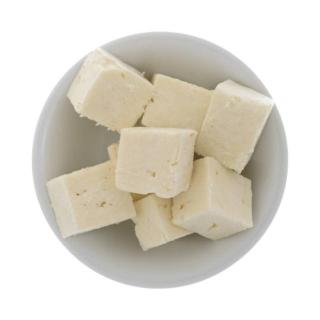Tahu: (45, 49, 275, 262)
